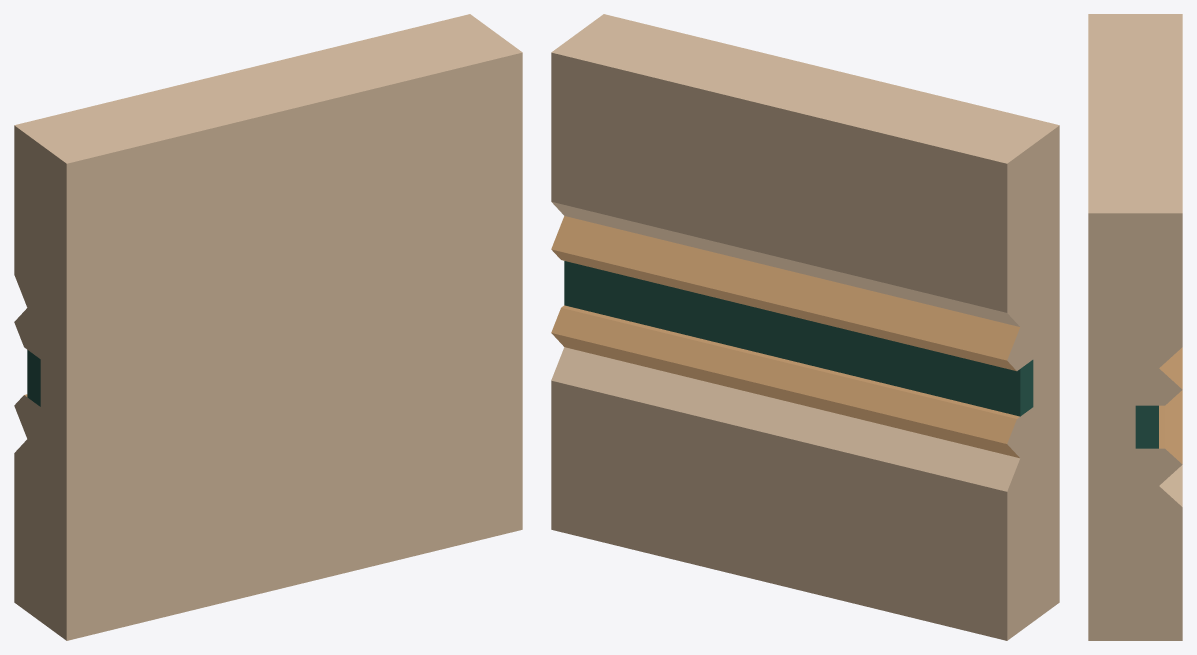
File: Puzzle_Wall_Conduit_Path_Straight.fbx
3 views of the same model, side by side, from view 1: azimuth 30°, elevation 25°; view 2: azimuth 150°, elevation 25°; view 3: azimuth 270°, elevation 25° (orthographic). The views are drawn at different scales.
Visible parts, largest first — view 1: Sandstone_Trim.object2; view 2: Sandstone_Trim.object2, Sandstone_5.Sandstone_5, object1; view 3: Sandstone_Trim.object2, Sandstone_5.Sandstone_5, object1.
Part boxes in pixels (left/top/right/bottom): Sandstone_Trim.object2: left=14, top=14, right=522, bottom=640; Sandstone_Trim.object2: left=551, top=14, right=1059, bottom=640; Sandstone_5.Sandstone_5: left=551, top=216, right=1020, bottom=458; object1: left=564, top=261, right=1033, bottom=416; Sandstone_Trim.object2: left=1088, top=14, right=1182, bottom=640; Sandstone_5.Sandstone_5: left=1159, top=347, right=1182, bottom=463; object1: left=1135, top=405, right=1158, bottom=448.
Size of the model in its own units: 1 by 1 by 0.2.
